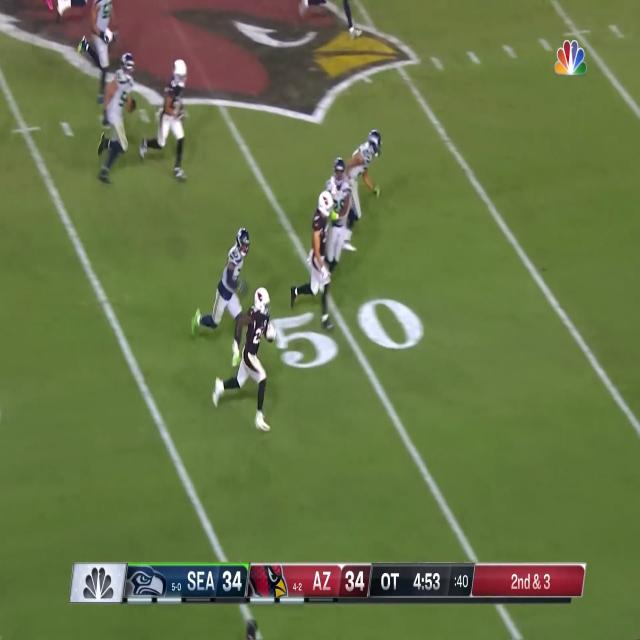football: (264, 324, 275, 344)
players: (214, 286, 276, 433), (192, 228, 250, 355), (290, 190, 335, 331), (139, 59, 188, 181), (98, 50, 136, 182), (77, 0, 120, 106), (324, 154, 354, 283), (342, 130, 382, 201)
